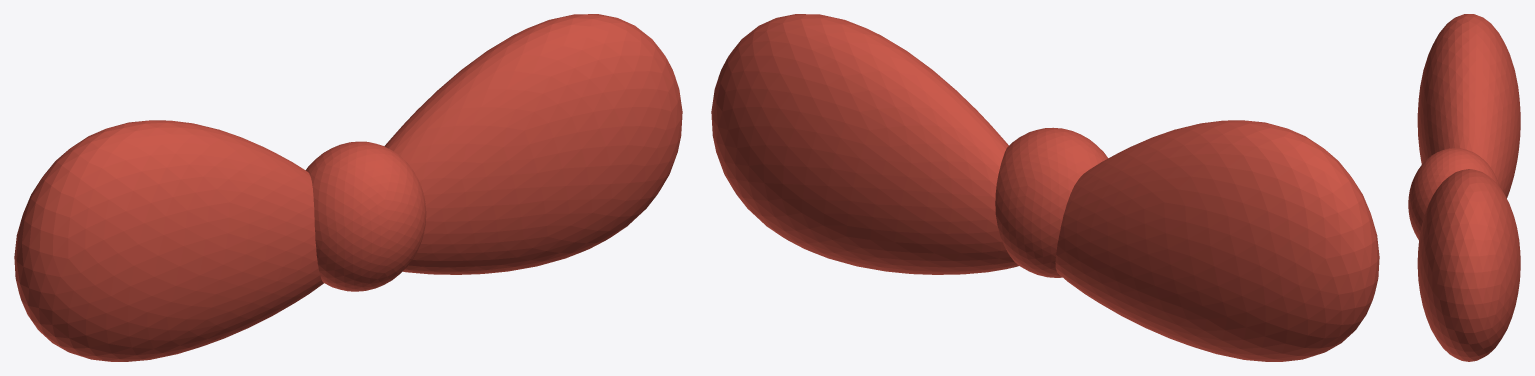
File: bow.glb
3 renders of one model, left to right at view 1: azimuth 30°, elevation 25°; view 2: azimuth 150°, elevation 25°; view 3: azimuth 270°, elevation 25°, orthographic. The views are drawn at different scales.
Visible parts, largest first — view 1: geometry_0; view 2: geometry_0; view 3: geometry_0.
Boxes of the visible parts, box(x1,y1,x2,y2) form: geometry_0: box(14, 14, 682, 361); geometry_0: box(711, 14, 1379, 361); geometry_0: box(1408, 14, 1520, 361).
Bounding box in the file's own units: 0.81 × 0.276 × 0.1615.
